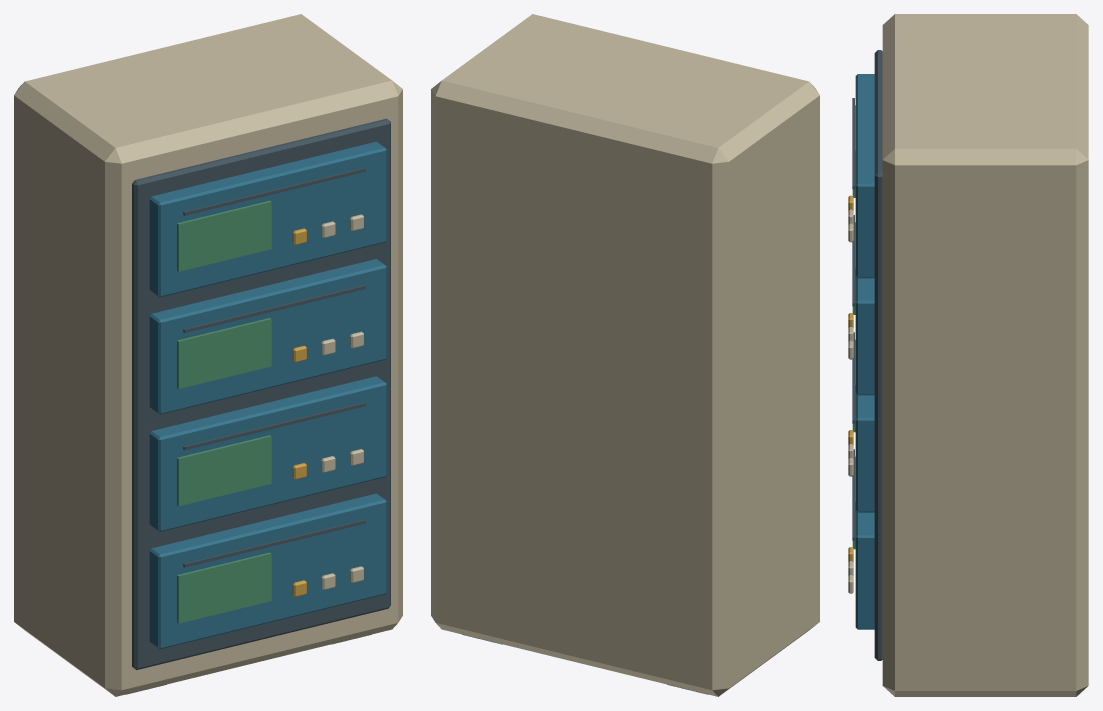
The model's file is instrument_cabinet.glb.
3 views of the same model, side by side, from view 1: azimuth 30°, elevation 25°; view 2: azimuth 150°, elevation 25°; view 3: azimuth 270°, elevation 25° (orthographic).
Visible parts, largest first — view 1: instrument_cabinet; view 2: instrument_cabinet; view 3: instrument_cabinet.
Part boxes in pixels (left/top/right/bottom): instrument_cabinet: left=14, top=14, right=402, bottom=696; instrument_cabinet: left=431, top=14, right=819, bottom=696; instrument_cabinet: left=848, top=14, right=1088, bottom=696.
Bounding box in the file's own units: 1.25 × 2.22 × 0.875.
